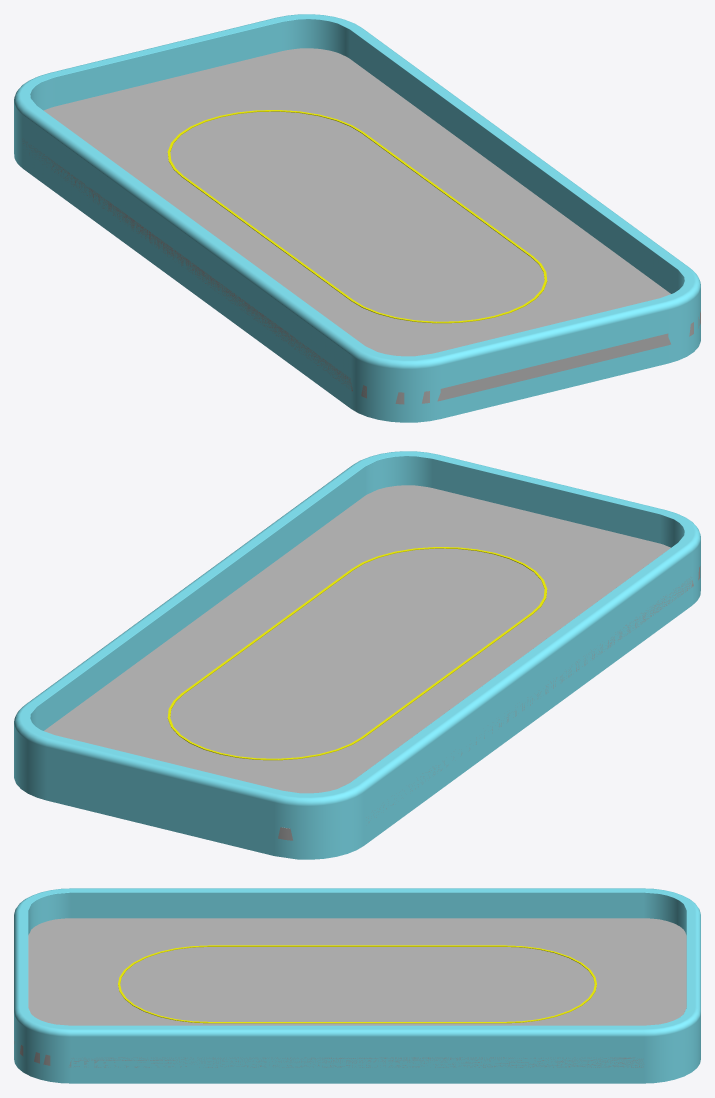
File: Track123.fbx
3 renders of one model, top to bottom at view 1: azimuth 30°, elevation 25°; view 2: azimuth 150°, elevation 25°; view 3: azimuth 270°, elevation 25°, orthographic. The views are drawn at different scales.
Visible parts, largest first — view 1: Ice, Pence, Line; view 2: Ice, Pence, Line; view 3: Ice, Pence, Line.
Boxes of the visible parts, x1,y1,x2,y2 form: Ice: (22, 48, 700, 404); Pence: (14, 14, 700, 422); Line: (167, 110, 547, 323); Ice: (44, 485, 700, 840); Pence: (14, 451, 700, 859); Line: (167, 547, 547, 760); Ice: (14, 918, 686, 1067); Pence: (14, 888, 700, 1083); Line: (118, 945, 596, 1023).
Bounding box in the file's own units: 3000 × 500 × 6000.
